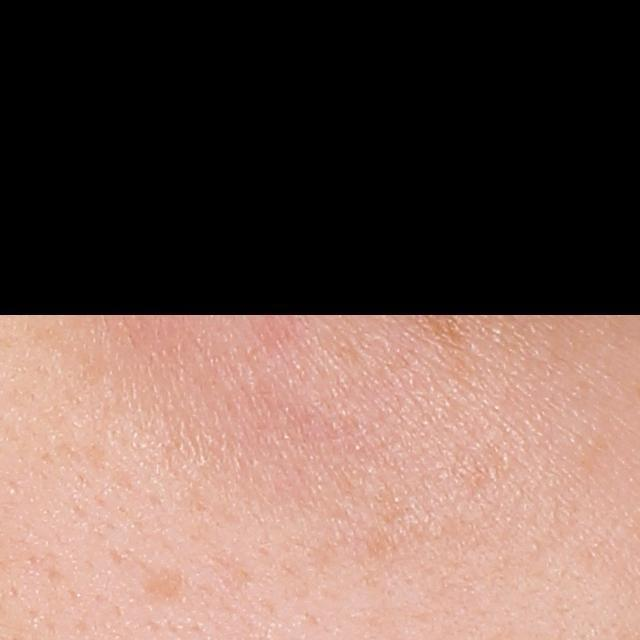melasma: (402, 300, 483, 385), (361, 483, 413, 526), (133, 567, 185, 599)
